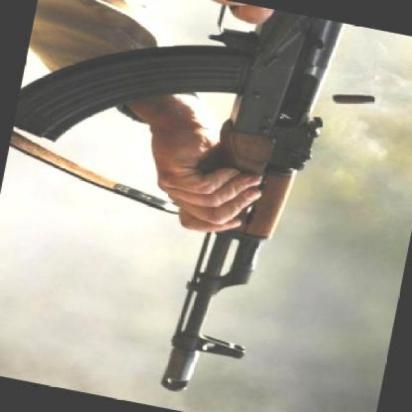Gun: (0, 0, 385, 412)
